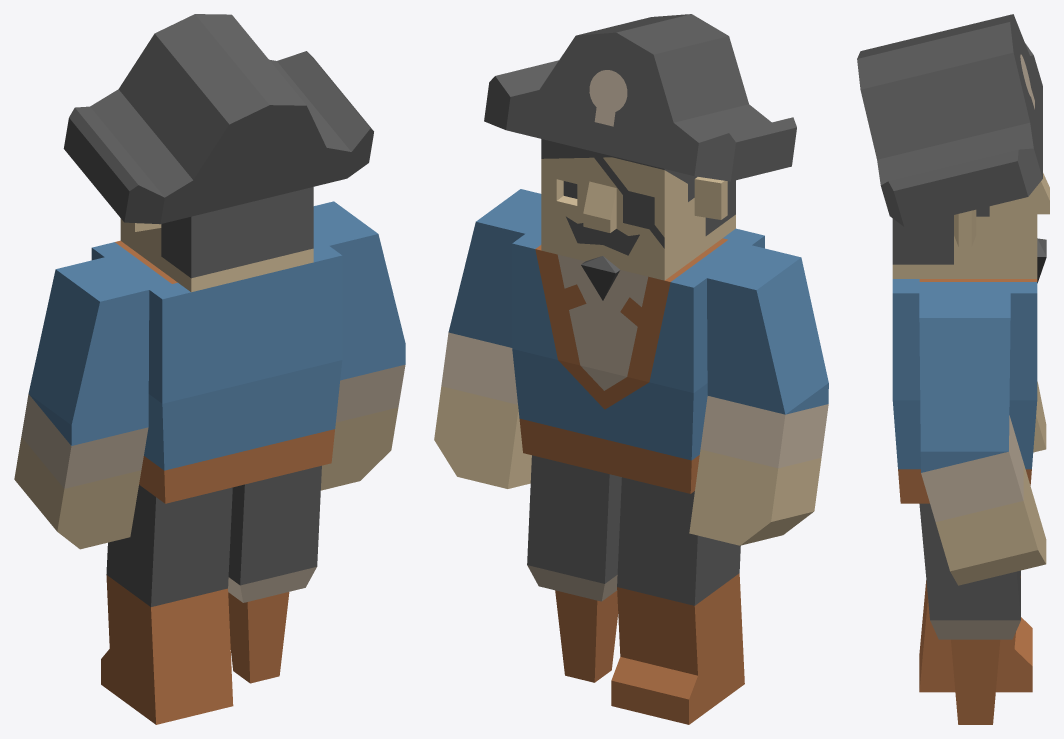
File: pirate_officer.fbx
3 renders of one model, left to right at view 1: azimuth 30°, elevation 25°; view 2: azimuth 150°, elevation 25°; view 3: azimuth 270°, elevation 25°, orthographic. The views are drawn at different scales.
Visible parts, largest first — view 1: Group 85 (×2), body 2, armLeft 2, legLeft 2, armRight 2, legRight 2; view 2: Group 85 (×2), body 2, armLeft 2, legLeft 2, armRight 2, legRight 2; view 3: Group 85 (×2), armRight 2, body 2, legRight 2, legLeft 2, armLeft 2.
Part boxes in pixels (x1,y1,x2,y2): Group 85 (×2): (63, 14, 373, 292); body 2: (91, 235, 342, 503); armLeft 2: (14, 257, 149, 549); legLeft 2: (101, 485, 233, 724); armRight 2: (313, 201, 405, 490); legRight 2: (228, 465, 321, 683); Group 85 (×2): (484, 14, 796, 300); body 2: (512, 222, 764, 493); armLeft 2: (689, 245, 828, 545); legLeft 2: (611, 477, 744, 724); armRight 2: (434, 189, 541, 488); legRight 2: (527, 455, 621, 682); Group 85 (×2): (857, 14, 1049, 283); armRight 2: (919, 293, 1046, 585); body 2: (892, 279, 1037, 503); legRight 2: (919, 503, 1020, 724); legLeft 2: (919, 570, 1032, 692); armLeft 2: (1033, 381, 1046, 452).
Size of the model in its own units: 6.24 by 11.75 by 3.05.
